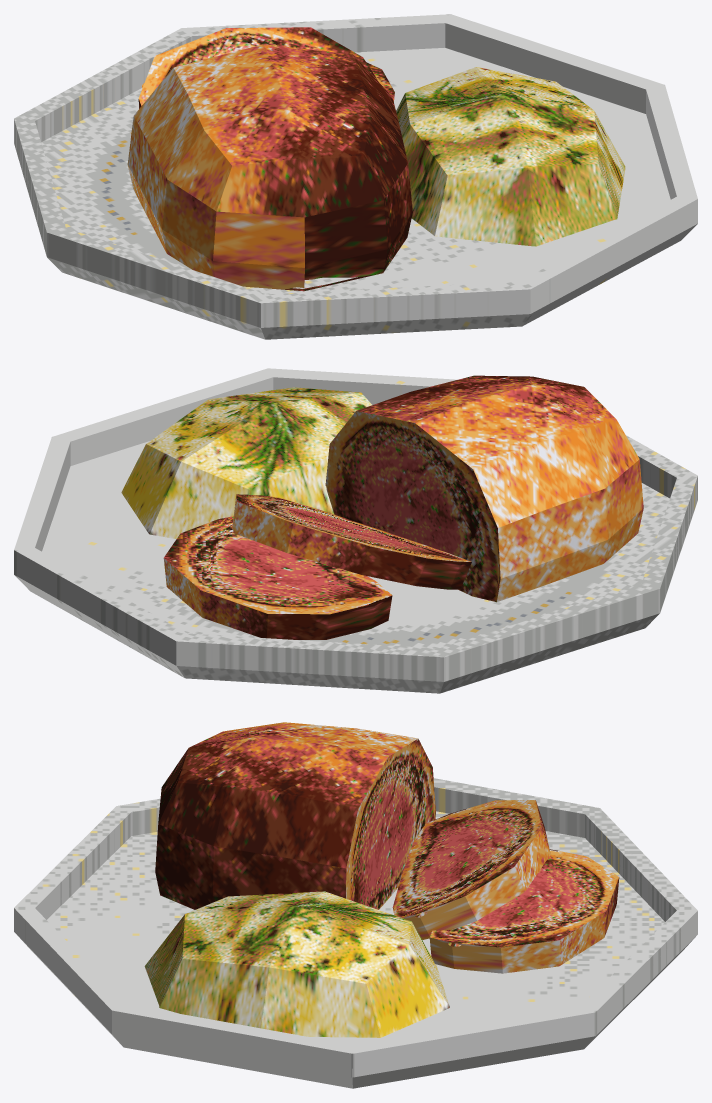
Rendered from SM_BeefWellington.fbx.
3 views of the same model, one above another, from view 1: azimuth 30°, elevation 25°; view 2: azimuth 150°, elevation 25°; view 3: azimuth 270°, elevation 25° (orthographic). The views are drawn at different scales.
Visible parts, largest first — view 1: Plate, BeefWellington, MashedPotatoes; view 2: BeefWellington, Plate, MashedPotatoes; view 3: BeefWellington, Plate, MashedPotatoes.
Boxes of the visible parts, x1,y1,x2,y2 form: Plate: (14,14,697,339); BeefWellington: (127,27,412,291); MashedPotatoes: (396,67,625,246); BeefWellington: (163,375,643,639); Plate: (14,368,697,693); MashedPotatoes: (121,387,372,538); BeefWellington: (155,722,619,973); Plate: (14,778,697,1088); MashedPotatoes: (144,891,449,1037).
Size of the model in its own units: 0.6452 by 0.1675 by 0.6452.
